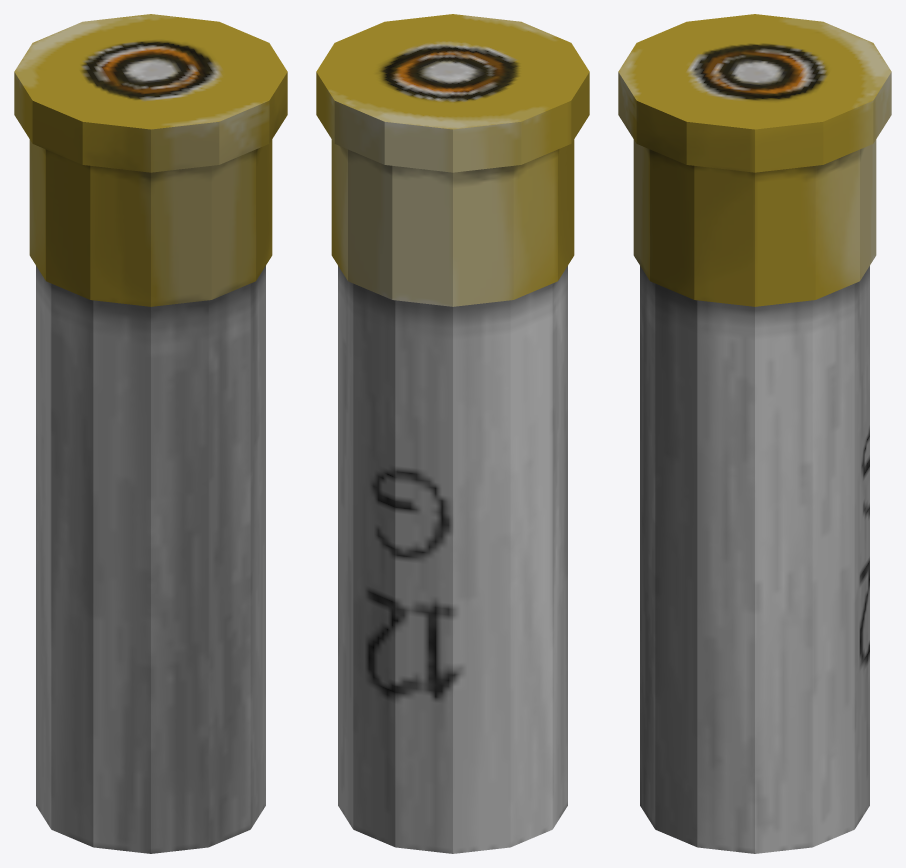
Rendered from Shell.fbx.
3 renders of one model, left to right at view 1: azimuth 30°, elevation 25°; view 2: azimuth 150°, elevation 25°; view 3: azimuth 270°, elevation 25°, orthographic.
Parts seen in each view (by area): view 1: Shell; view 2: Shell; view 3: Shell.
Part boxes in pixels (x1,y1,x2,y2): Shell: (14,14,287,853); Shell: (316,14,589,853); Shell: (618,14,891,853).
Bounding box in the file's own units: 0.2467 × 0.7303 × 0.2467.
